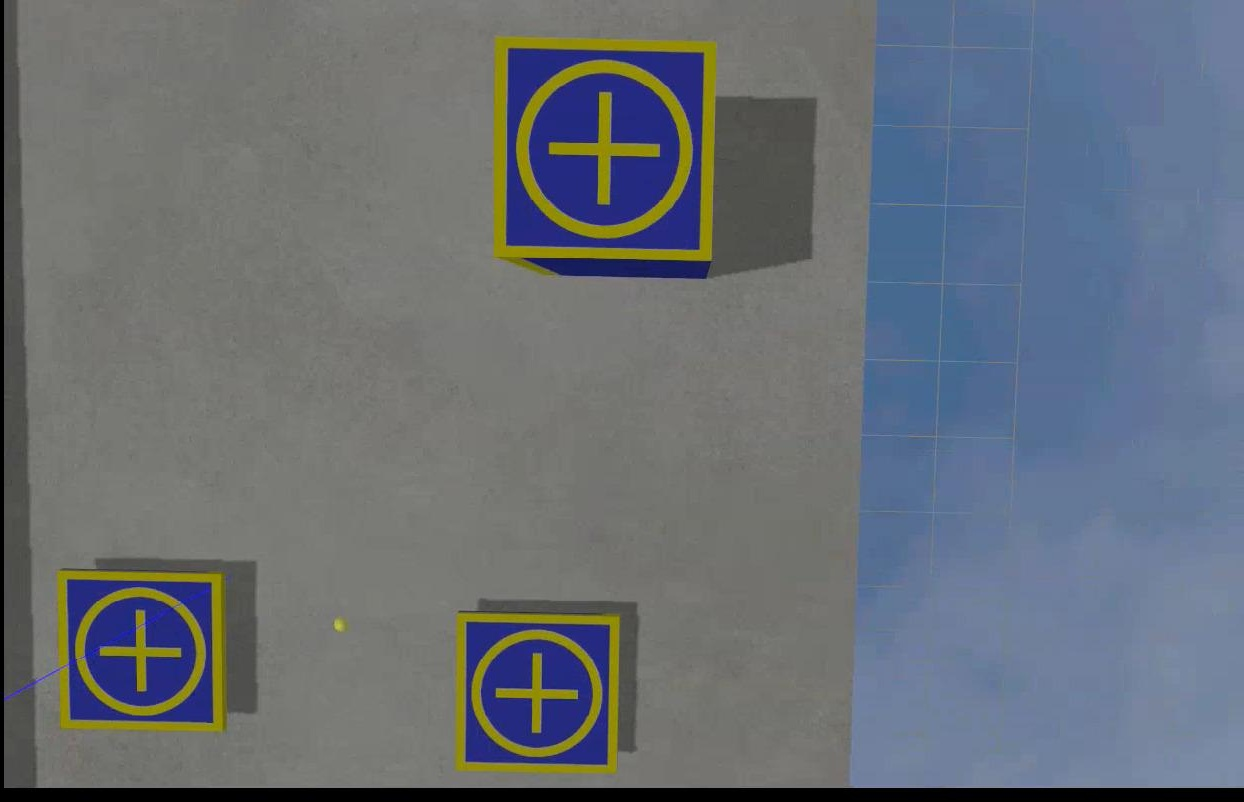small_base: (486, 36, 716, 265), (55, 570, 226, 734), (454, 611, 620, 774)
